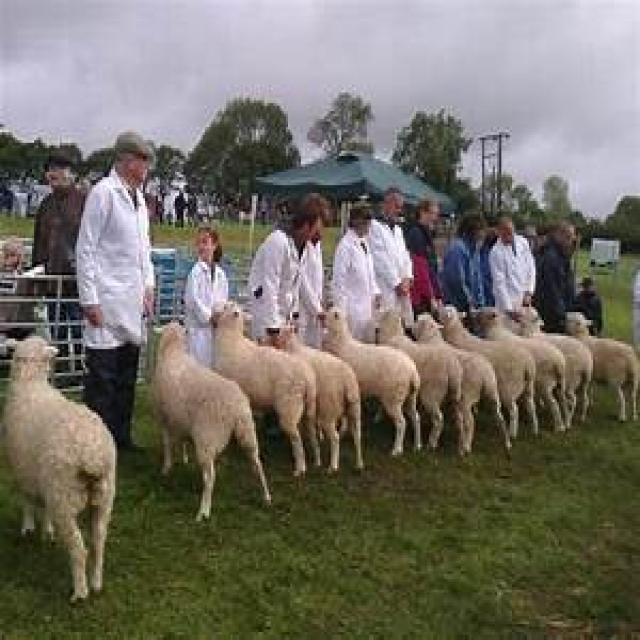animal: (0, 333, 117, 603), (151, 320, 271, 521), (209, 299, 324, 479), (364, 304, 475, 458), (319, 304, 426, 461), (266, 319, 370, 478), (430, 303, 543, 440), (472, 306, 573, 434), (561, 308, 640, 427)
